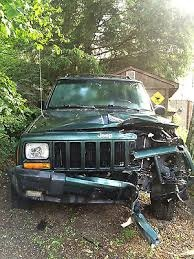Broken-glass: (145, 143, 177, 162)
Dent: (75, 115, 126, 125)
Smashed: (113, 117, 193, 241)
